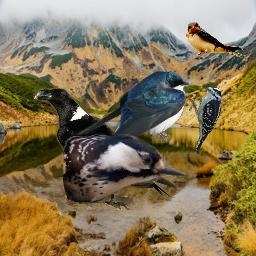Crow: (33, 88, 177, 210)
Swallow: (68, 70, 189, 157), (185, 21, 250, 60)
Woodpecker: (63, 128, 187, 205), (189, 85, 225, 154)
